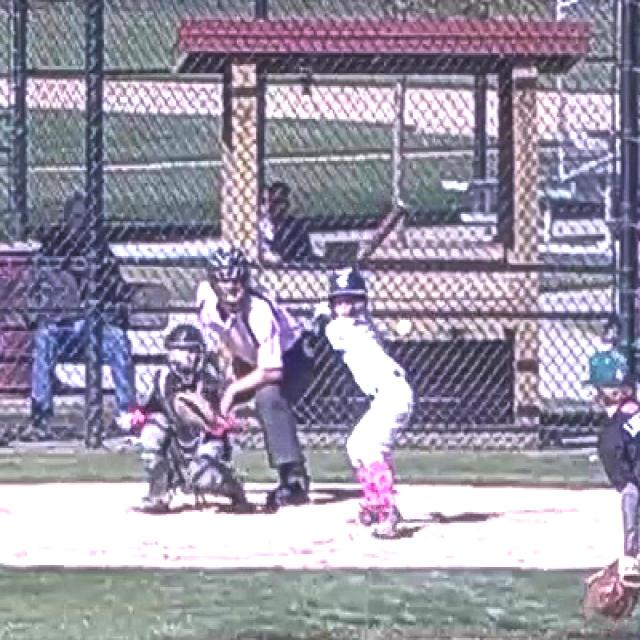baseball: (398, 319, 412, 334)
